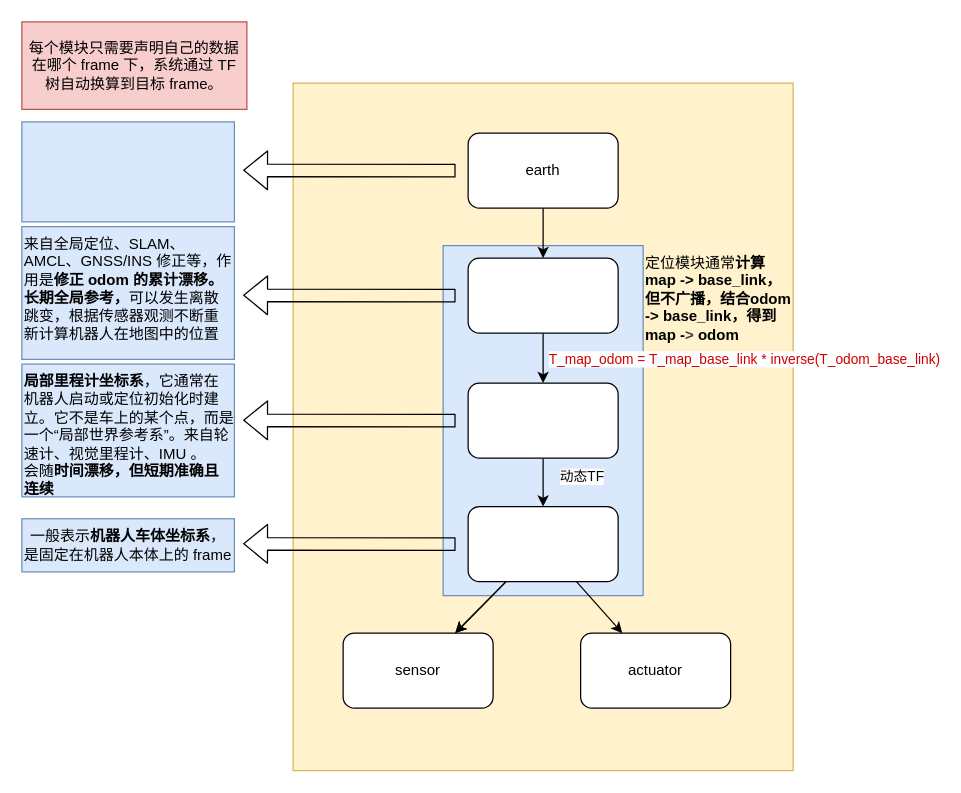
Image size: 961x793. Some labels were removed from this diagram. Each missing label, with the centre of its shape:
"base_link" belongs at pixel 542 543.
"map" belongs at pixel 542 295.
"odom" belongs at pixel 542 420.
"地心地固坐标系。 全球坐标到局部地图坐标。 多个机器人、多个地图、跨区域地图，初始化时没有可以后期接入。" belongs at pixel 127 171.
